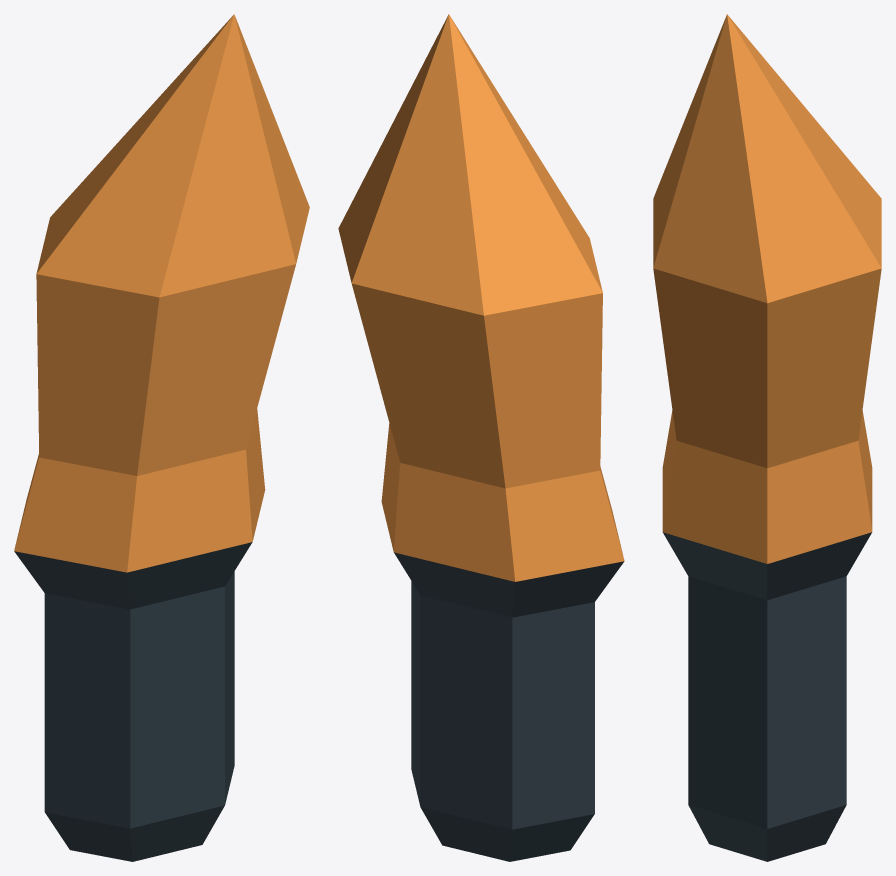
File: sprint3-accessory-separate.glb
3 renders of one model, left to right at view 1: azimuth 30°, elevation 25°; view 2: azimuth 150°, elevation 25°; view 3: azimuth 270°, elevation 25°, orthographic. The views are drawn at different scales.
Parts seen in each view (by area): view 1: SAS Accessory - Balise Quartz; view 2: SAS Accessory - Balise Quartz; view 3: SAS Accessory - Balise Quartz.
Boxes of the visible parts, x1=… form: SAS Accessory - Balise Quartz: x1=14, y1=14, x2=309, y2=861; SAS Accessory - Balise Quartz: x1=338, y1=14, x2=624, y2=861; SAS Accessory - Balise Quartz: x1=653, y1=14, x2=881, y2=861.
Bounding box in the file's own units: 0.106 × 0.279 × 0.0679.
